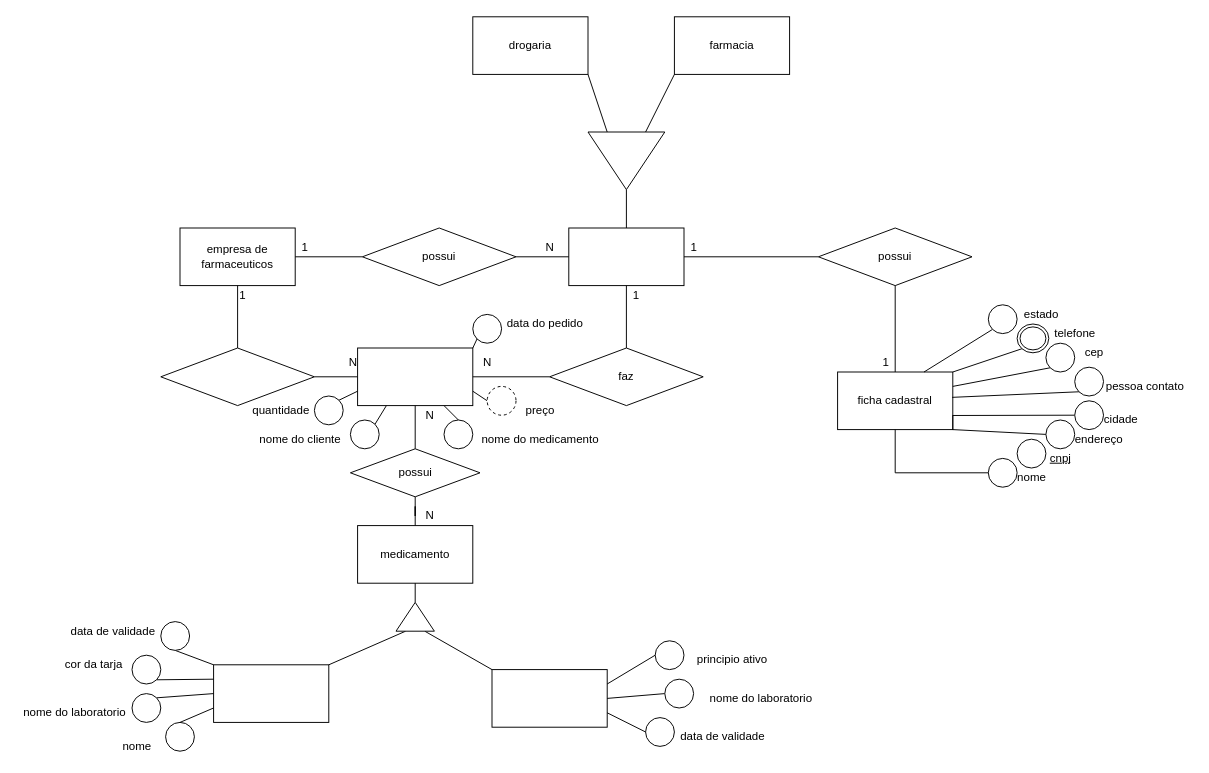
The diagram is 1209 pixels wide and 773 high, and some of its shapes have lost their labels. The shapes that lost their labels are listed below. From the top down, each one's centre as x and y in pixels, then its label:
(626,256): cliente
(237,376): recebe
(415,376): pedido
(271,693): marca
(549,698): generico
